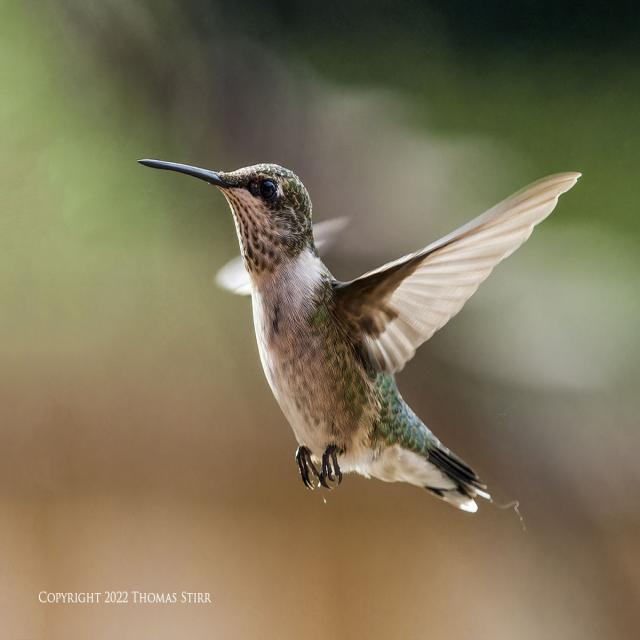Humming Bird: (131, 134, 578, 523)
